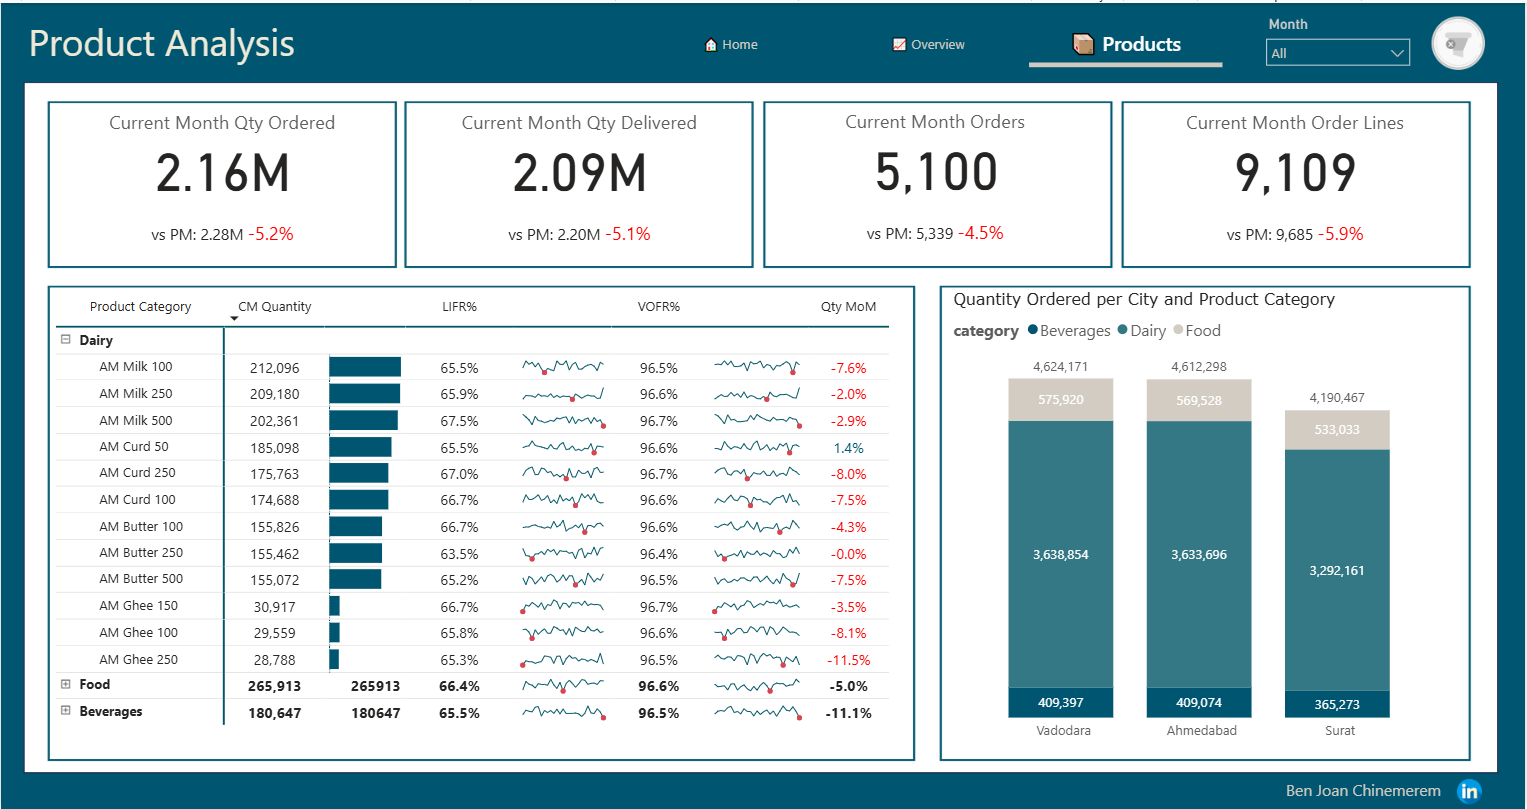

The page's visual inventory and layout, read from the dashboard file:
{"tool":"powerbi","page":{"name":" 📦 Products","canvas":[1550,820],"ordinal":2},"visuals":[{"type":"cardVisual","title":"Order Lines","fields":{"Data":["_Measures.Total Order Lines CM"]},"box":[1141.4,98.6,352.3,166.5],"z":0},{"type":"pivotTable","fields":{"Rows":["dim_products.category","dim_products.product_name"],"Values":["_Measures.Qty Ordered CM","_Measures.Qty Ordered CM 2","_Measures.Line Fill Rate (LIFR%)","SparklineData(_Measures.Line Fill Rate (LIFR%)_[dim_date.week_no])","_Measures.Volume Fill Rate (VOFR%)","SparklineData(_Measures.Volume Fill Rate (VOFR%)_[dim_date.week_no])","_Measures.Qty Ordered MoM"]},"box":[50.9,291.2,869.9,475.6],"z":1000},{"type":"columnChart","title":"Quantity Ordered per City and Product Category","fields":{"Category":["dim_customers.city"],"Y":["_Measures.Total Qty Ordered"],"Series":["dim_products.category"]},"box":[964,291.2,516.3,468],"z":2000},{"type":"textbox","box":[22.9,8.9,536.7,77.6],"z":3000},{"type":"cardVisual","title":"Orders","fields":{"Data":["_Measures.Total Orders CM"]},"box":[773.9,99.8,352.8,165.4],"z":4000},{"type":"cardVisual","title":"Qty Delivered","fields":{"Data":["_Measures.Qty Delivered CM"]},"box":[414.6,99.2,348.5,166.6],"z":5000},{"type":"cardVisual","title":"Qty Ordered","fields":{"Data":["_Measures.Qty Ordered CM"]},"box":[50.9,99.2,349.7,166.6],"z":6000},{"type":"image","box":[1467.6,784.7,53.4,35.6],"z":7000},{"type":"textbox","box":[1302.2,784.7,178,35.6],"z":8000},{"type":"slicer","fields":{"Values":["dim_date.Month Name"]},"box":[1277.1,7.7,166.5,65.3],"z":9000},{"type":"pageNavigator","box":[643.5,16.5,600.3,49.6],"z":10000},{"type":"image","box":[1443.7,9,78.1,64],"z":11000}]}

Visuals, with their boxes in screenshot pixels (x1, y1, x2, y2), scaled from the page's 1550x820 canvas onto the 1527x809 screenshot:
"Order Lines" cardVisual: (1124,97,1472,262)
pivotTable - dim_products.category x dim_products.product_name: (50,287,907,757)
"Quantity Ordered per City and Product Category" columnChart: (950,287,1458,749)
textbox: (23,9,551,85)
"Orders" cardVisual: (762,98,1110,262)
"Qty Delivered" cardVisual: (408,98,752,262)
"Qty Ordered" cardVisual: (50,98,395,262)
image: (1446,774,1498,808)
textbox: (1283,774,1458,808)
slicer - dim_date.Month Name: (1258,8,1422,72)
pageNavigator: (634,16,1225,65)
image: (1422,9,1499,72)
